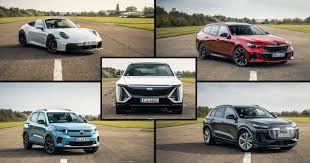car: (194, 20, 293, 69), (202, 105, 299, 152), (111, 60, 186, 111), (20, 108, 99, 155), (18, 17, 105, 56)
